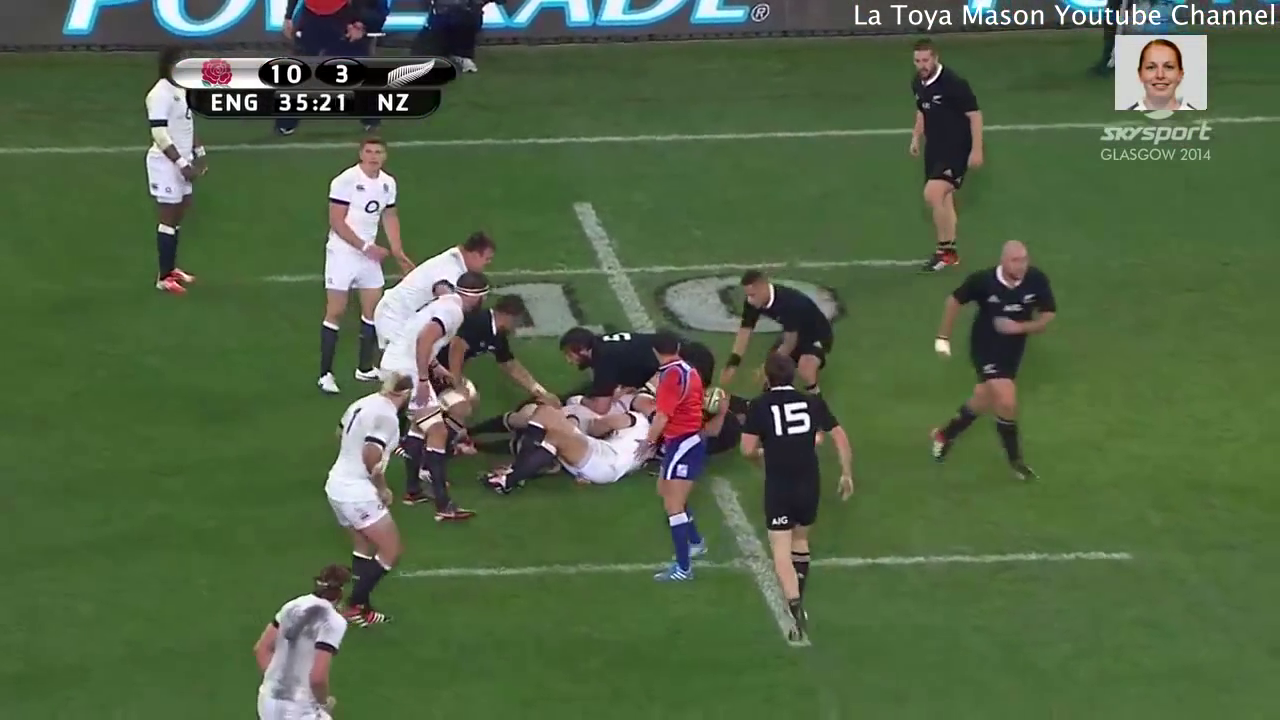10_metre: (392, 476, 1146, 656), (260, 193, 946, 360)
player: (728, 344, 866, 654), (922, 228, 1052, 497), (294, 131, 405, 405), (381, 272, 489, 544), (892, 25, 994, 290), (319, 364, 416, 639), (701, 253, 870, 400), (128, 40, 213, 306), (636, 336, 718, 587), (419, 286, 547, 445), (470, 393, 663, 488), (245, 560, 355, 720), (362, 224, 490, 354), (541, 311, 725, 400)
